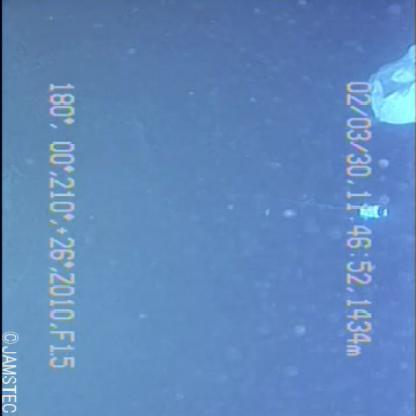Rác: (364, 43, 415, 134)
